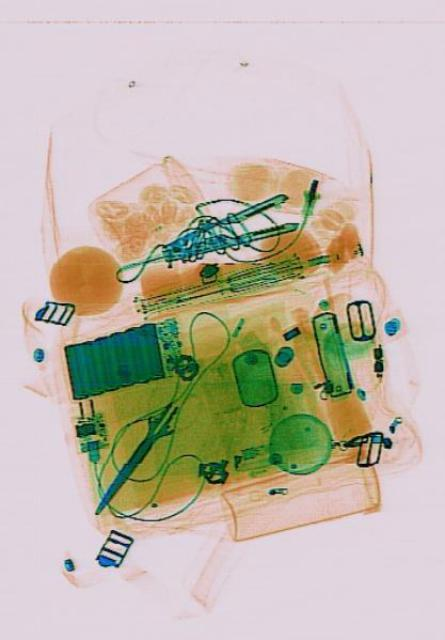Knife: (83, 387, 184, 527)
